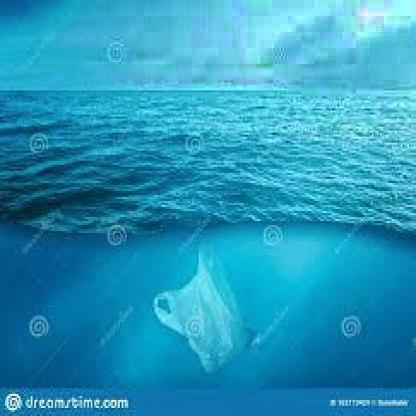pbag: (152, 241, 257, 376)
